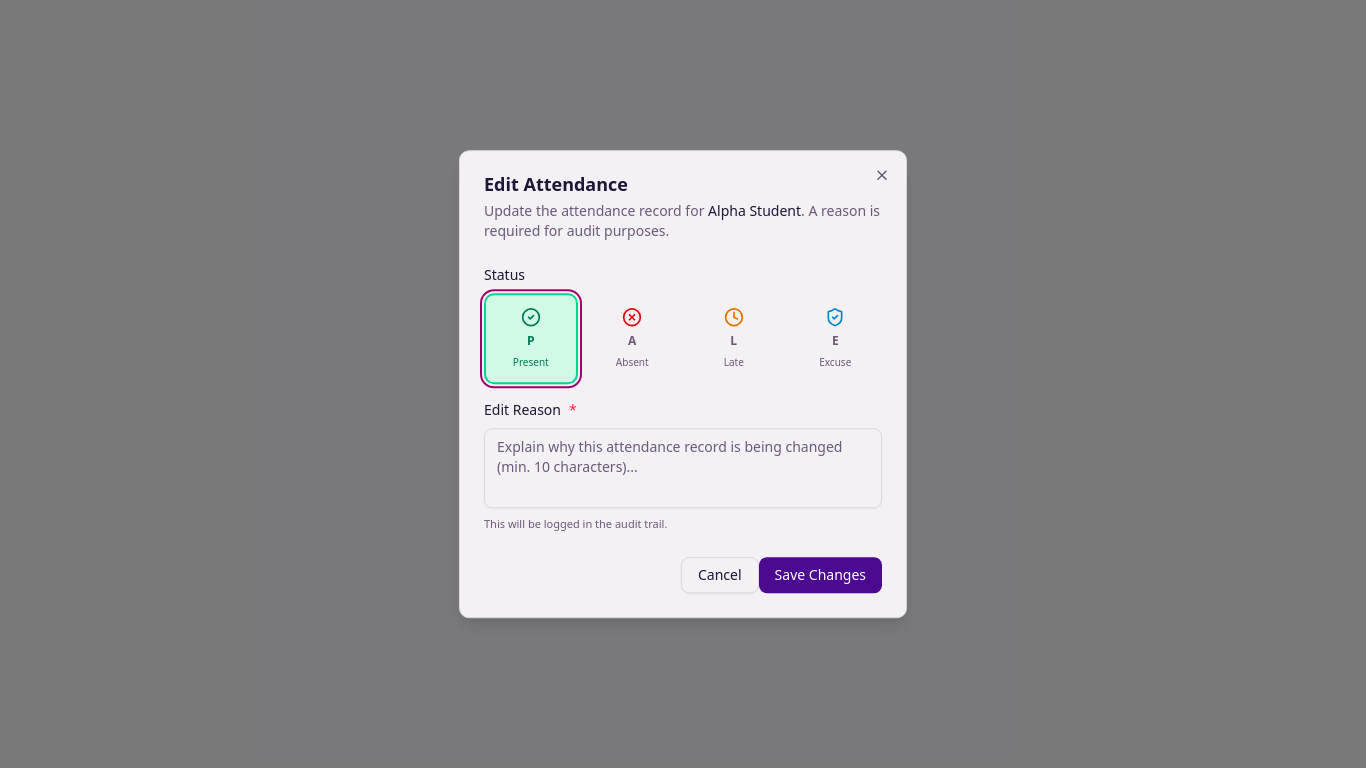
Test: AttendanceEditDialog terminology › offers Excuse for the excused status while the payload value stays excused
This screenshot has width=1366, height=768.
# Selecting the Excuse option carries the unchanged `excused` code.
Click the text "Excuse": click(835, 363) [819,355,851,370]
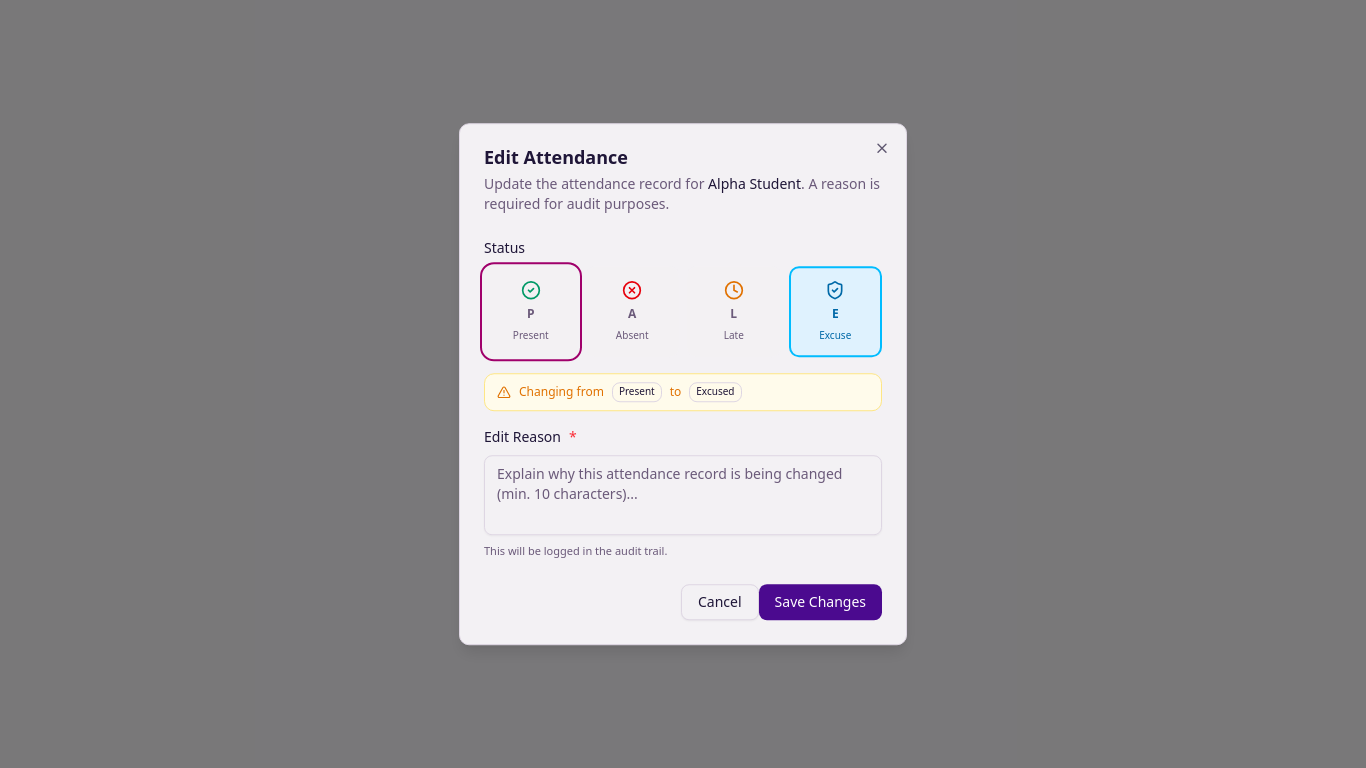
Expected: the text "excused" is shown, [689,382,742,402]
